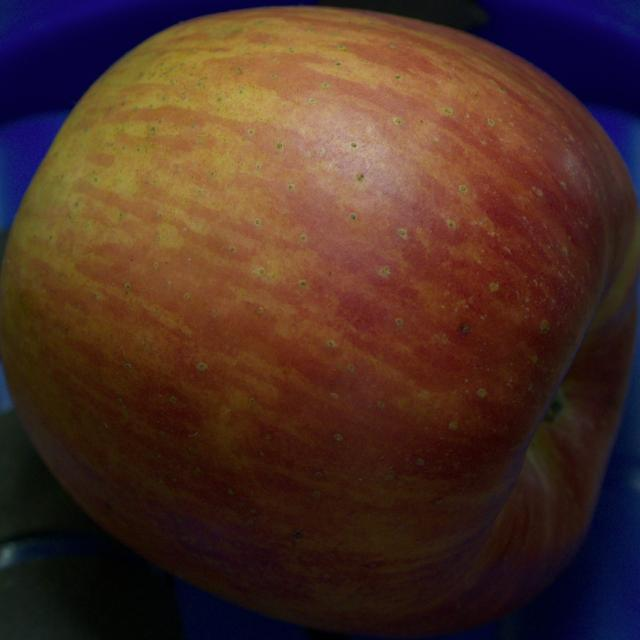apple: (0, 7, 639, 636)
pest: (460, 326, 468, 332)
